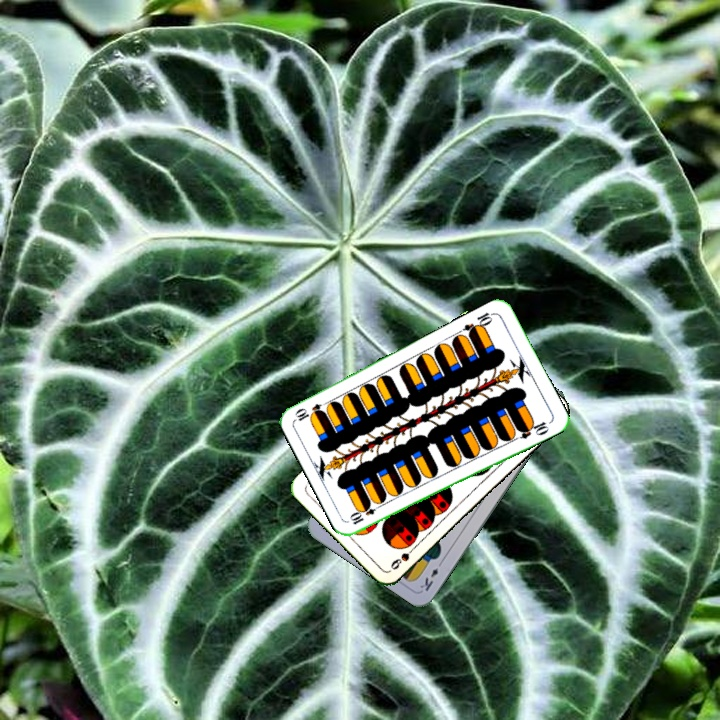E10: (459, 308, 497, 338), (346, 499, 384, 527)
EK: (416, 556, 446, 594)
S9: (387, 541, 420, 572)
